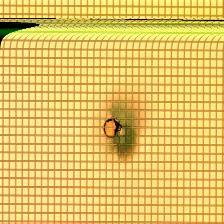PARTICLE: (102, 118, 125, 140)
